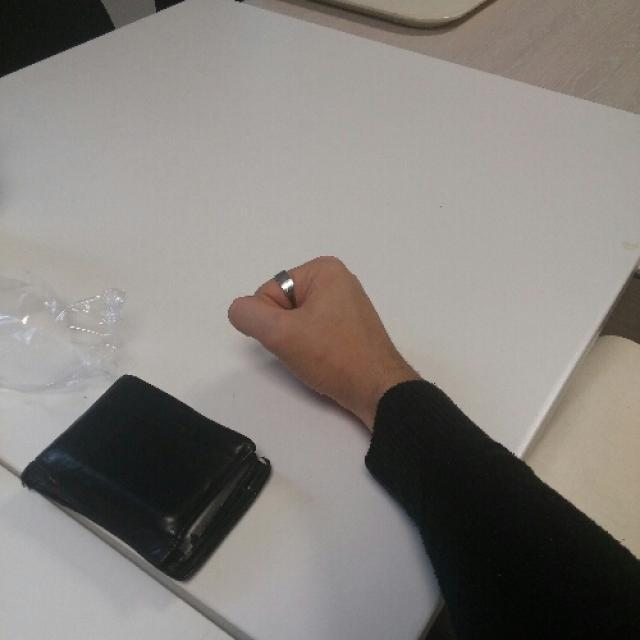rock: (231, 255, 373, 402)
